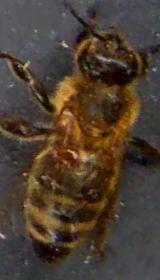varroa_mite: (54, 141, 82, 170)
